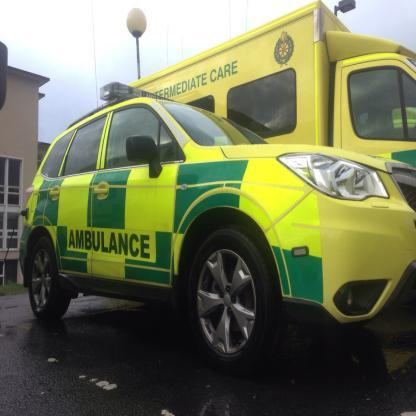Ambulance - v1 Ambulance last generate: (18, 78, 415, 386), (123, 0, 415, 168)
